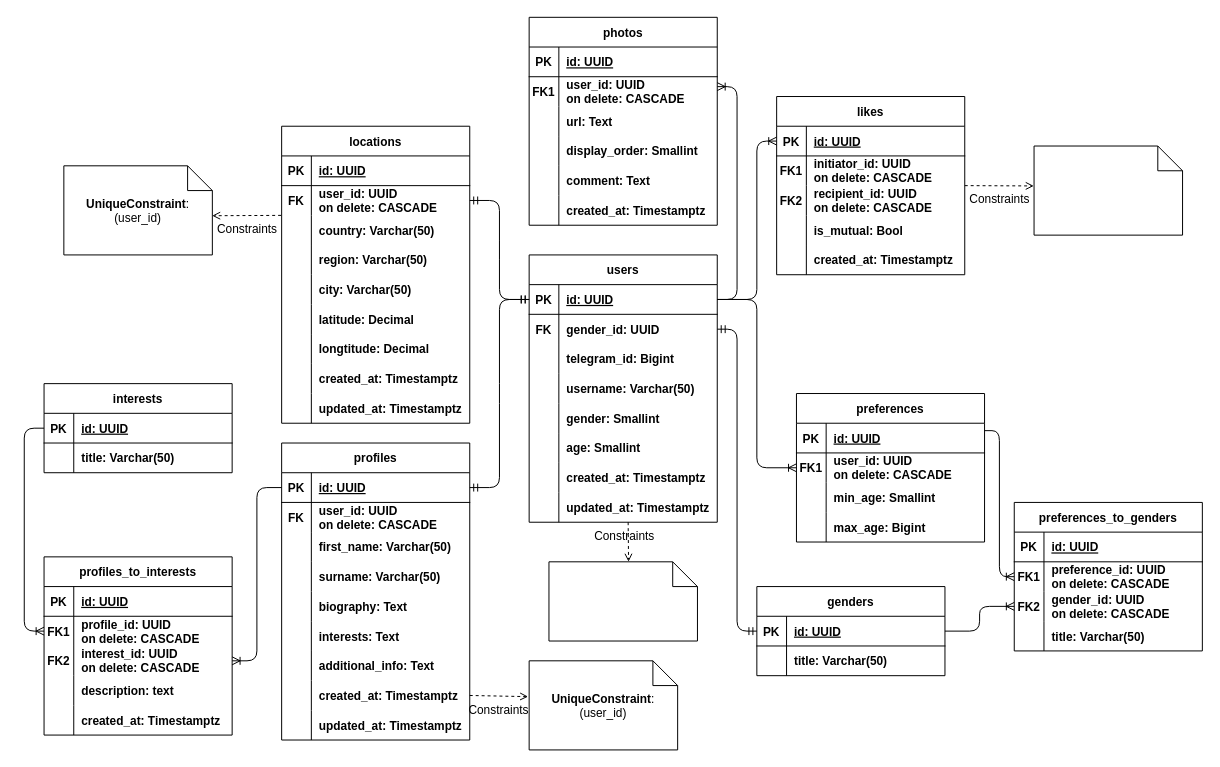
This 1220x767 diagram has some shape labels left out. Each missing label, with the centre of its shape:
"UniqueConstraint : (initiator_id + recipient_id) in any order" goes at pixel 1108 190.
"UniqueConstraint : (telegram_id)" goes at pixel 622 601.
